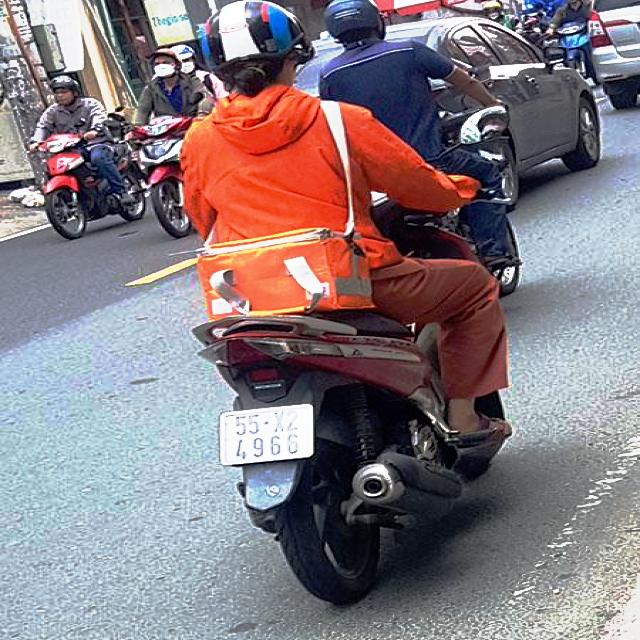license_plate: (220, 407, 318, 467)
